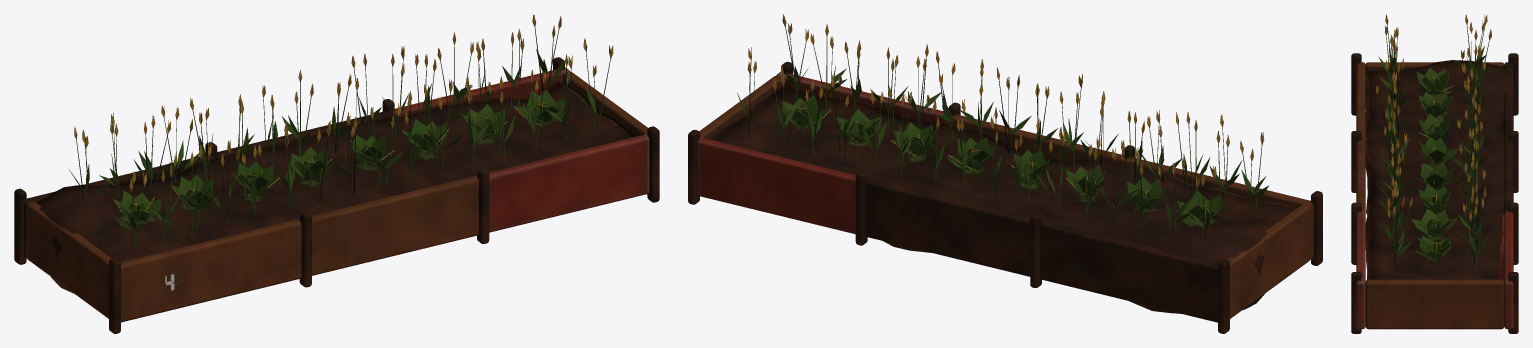
Rendered from crop_bed.glb.
3 renders of one model, left to right at view 1: azimuth 30°, elevation 25°; view 2: azimuth 150°, elevation 25°; view 3: azimuth 270°, elevation 25°, orthographic. The views are drawn at different scales.
Parts seen in each view (by area): view 1: crop_bed; view 2: crop_bed; view 3: crop_bed.
Part boxes in pixels (left/top/right/bottom): crop_bed: left=14, top=14, right=659, bottom=333; crop_bed: left=688, top=14, right=1322, bottom=333; crop_bed: left=1351, top=14, right=1518, bottom=333.
Size of the model in its own units: 4.03 by 1.06 by 1.28.
Materials: 1 (1 with a texture image).
